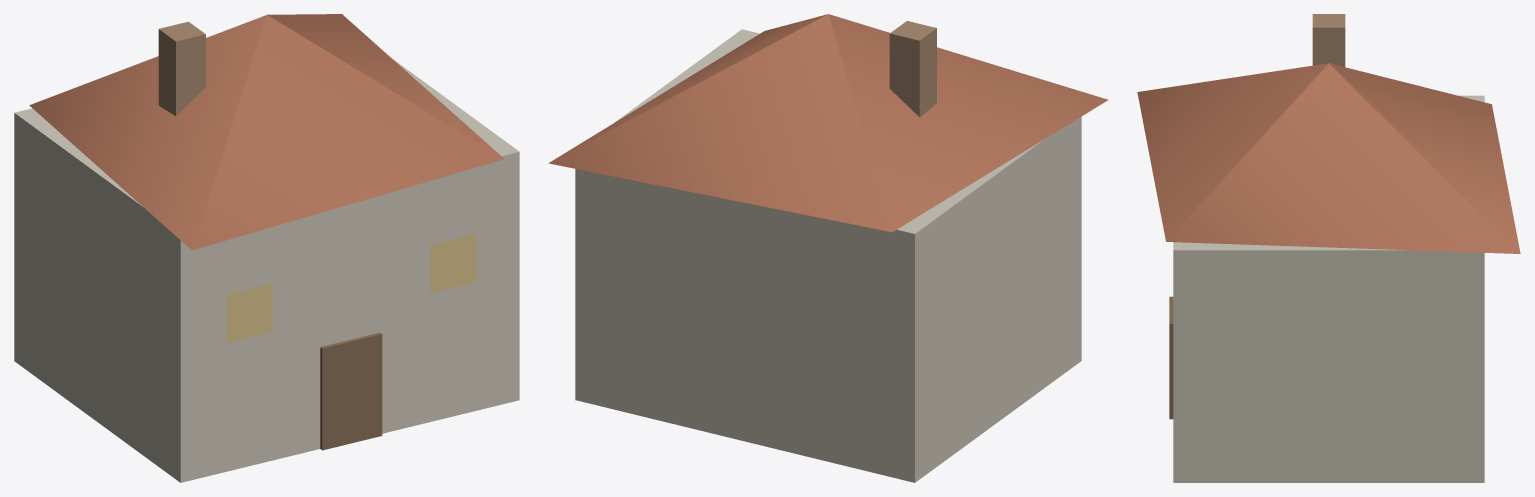
Rendered from casa-referencia.glb.
The picture shows the model from 3 angles, left to right: view 1: azimuth 30°, elevation 25°; view 2: azimuth 150°, elevation 25°; view 3: azimuth 270°, elevation 25°; orthographic projection. The views are drawn at different scales.
Visible parts, largest first — view 1: casa-1, casa-2, casa-3, casa-6, casa-4, casa-5; view 2: casa-1, casa-2, casa-6; view 3: casa-1, casa-2, casa-6, casa-3.
Boxes of the visible parts, x1=… form: casa-1: x1=14, y1=58, x2=519, y2=482; casa-2: x1=29, y1=14, x2=504, y2=250; casa-3: x1=320, y1=332, x2=382, y2=450; casa-6: x1=158, y1=21, x2=205, y2=116; casa-4: x1=226, y1=283, x2=272, y2=342; casa-5: x1=430, y1=234, x2=476, y2=293; casa-1: x1=575, y1=29, x2=1081, y2=482; casa-2: x1=548, y1=14, x2=1108, y2=232; casa-6: x1=889, y1=21, x2=936, y2=117; casa-1: x1=1173, y1=95, x2=1484, y2=482; casa-2: x1=1137, y1=63, x2=1520, y2=253; casa-6: x1=1312, y1=14, x2=1345, y2=66; casa-3: x1=1169, y1=296, x2=1173, y2=419.
Bounding box in the file's own units: 4.62 × 4.6 × 4.62.
